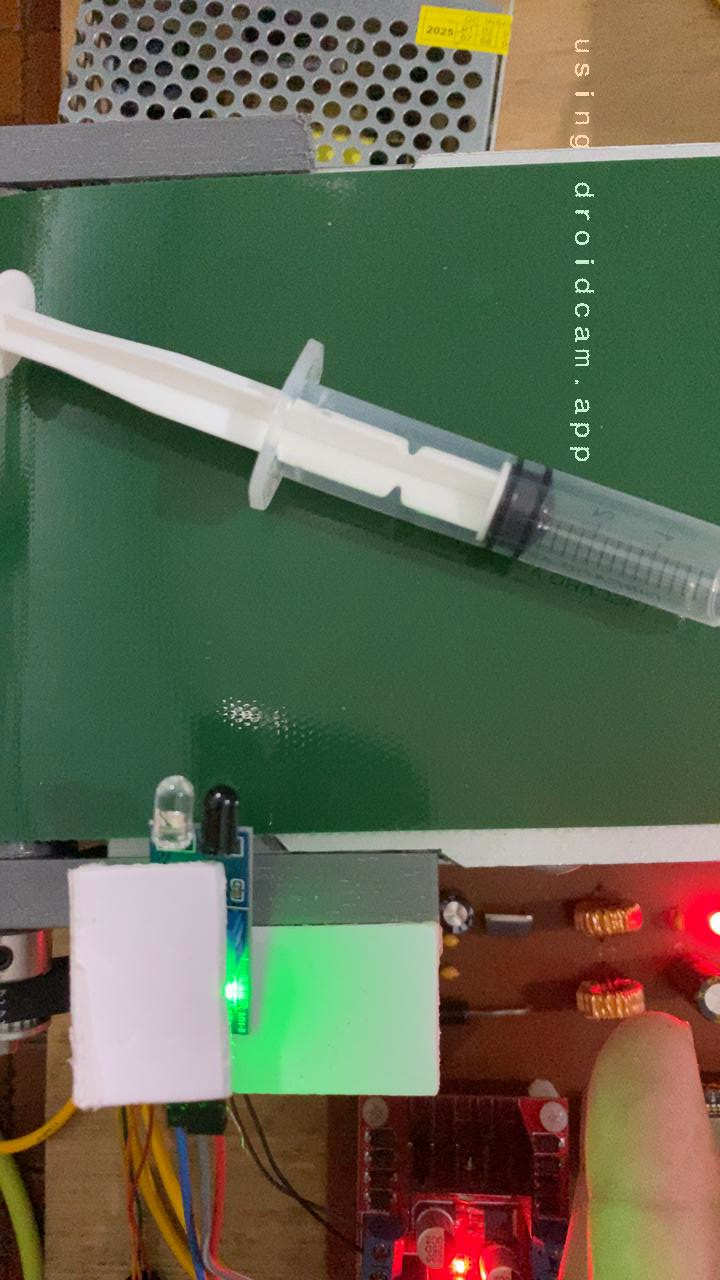syringe: (0, 262, 720, 636)
